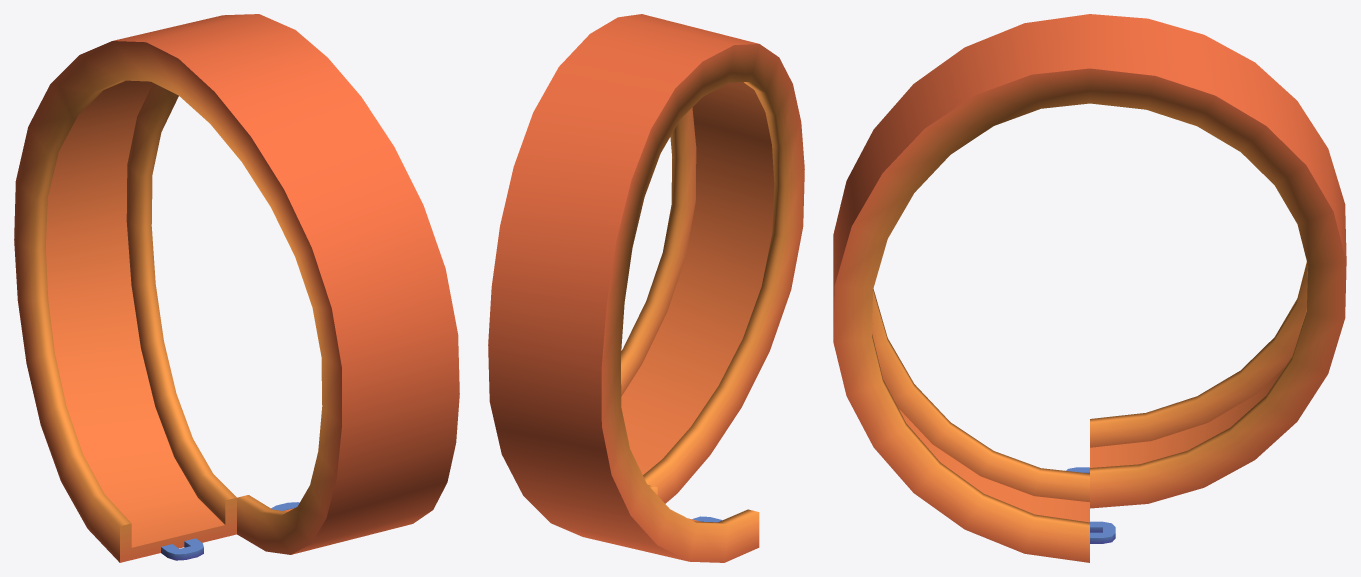
File: kenney-toy-car-track-narrow-looping.glb
3 views of the same model, side by side, from view 1: azimuth 30°, elevation 25°; view 2: azimuth 150°, elevation 25°; view 3: azimuth 270°, elevation 25° (orthographic). The views are drawn at different scales.
Visible parts, largest first — view 1: track-narrow-looping; view 2: track-narrow-looping; view 3: track-narrow-looping.
Boxes of the visible parts, box(x1,y1,x2,y2) form: track-narrow-looping: box(14, 14, 459, 562); track-narrow-looping: box(488, 14, 804, 562); track-narrow-looping: box(833, 14, 1346, 562).
Bounding box in the file's own units: 2 × 4 × 3.98.
1 material, 1 textured.
